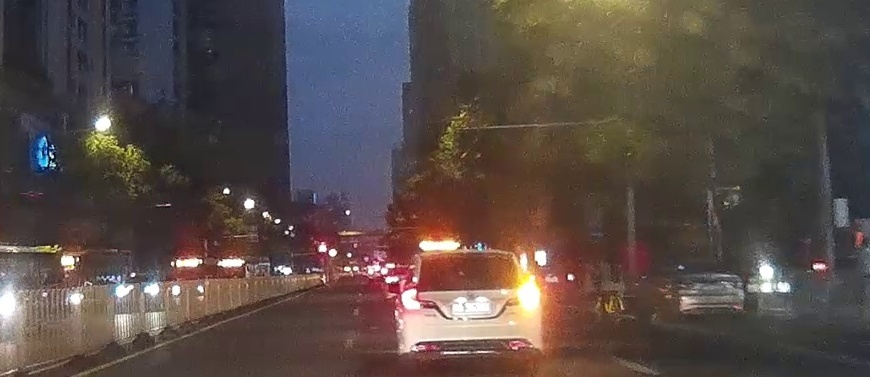L_light: (400, 288, 420, 309)
R_light: (517, 279, 541, 311)
T_light: (452, 249, 482, 255)
night-right: (394, 248, 543, 366)
